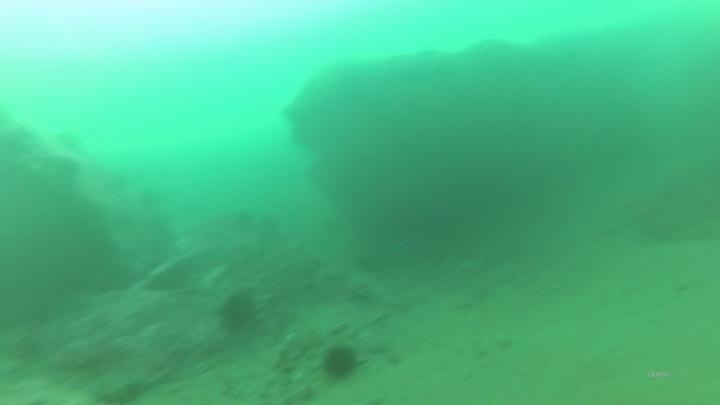echinus: (216, 288, 261, 335), (319, 341, 362, 384)
